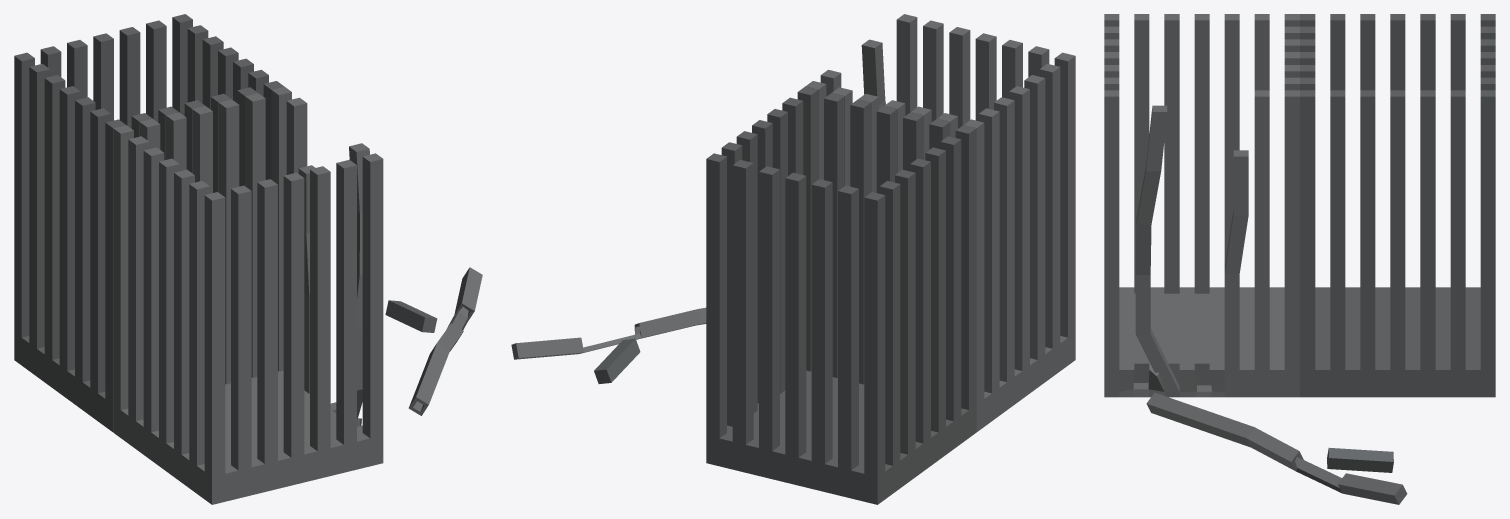
Rendered from kletki.fbx.
3 views of the same model, side by side, from view 1: azimuth 30°, elevation 25°; view 2: azimuth 150°, elevation 25°; view 3: azimuth 270°, elevation 25° (orthographic).
Parts seen in each view (by area): view 1: Kletka.012, Kletka.011, Kletka.004, Kletka.003; view 2: Kletka.011, Kletka.012, Kletka.004, Kletka.003; view 3: Kletka.012, Kletka.011, Kletka.004, Kletka.003.
Boxes of the visible parts, x1,y1,x2,y2 form: Kletka.012: [113, 86, 383, 504]; Kletka.011: [14, 14, 283, 431]; Kletka.004: [408, 267, 482, 415]; Kletka.003: [385, 300, 437, 332]; Kletka.011: [706, 86, 976, 504]; Kletka.012: [805, 14, 1075, 431]; Kletka.004: [511, 307, 706, 359]; Kletka.003: [594, 338, 640, 383]; Kletka.012: [1104, 14, 1299, 397]; Kletka.011: [1300, 14, 1495, 397]; Kletka.004: [1146, 392, 1407, 504]; Kletka.003: [1327, 447, 1393, 472].
Size of the model in its own units: 366 by 255 by 300.
